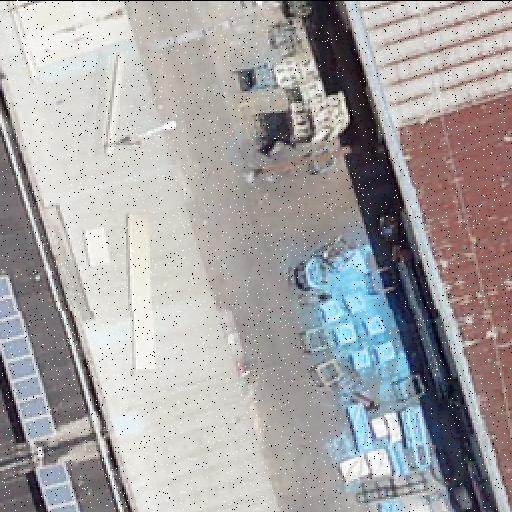solar-panel: (0, 270, 58, 442), (31, 457, 81, 511)
